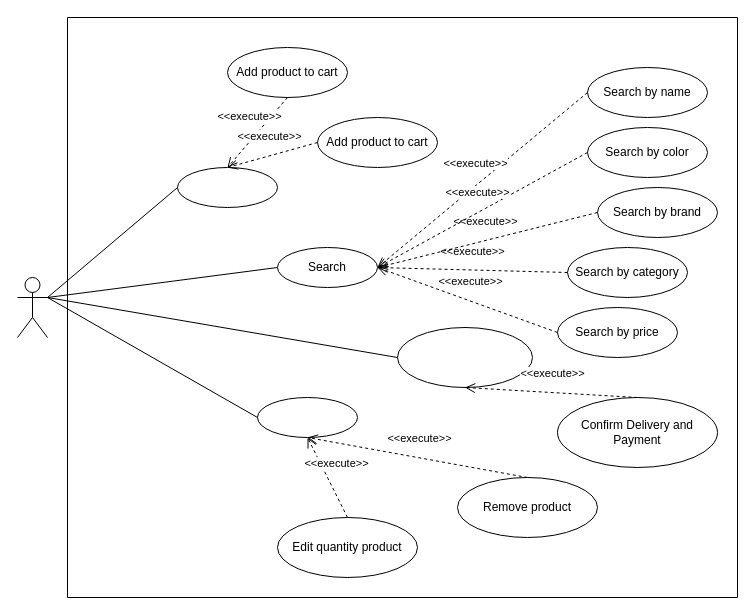
The diagram is 755 pixels wide and 615 high, and some of its shapes have lost their labels. Here are the shapes that lost their labels. From the top down, the box of each, then its label:
(176, 166, 278, 208): View
(16, 276, 48, 338): Actor
(396, 326, 532, 388): Checkout
(256, 396, 358, 438): Edit in cart
